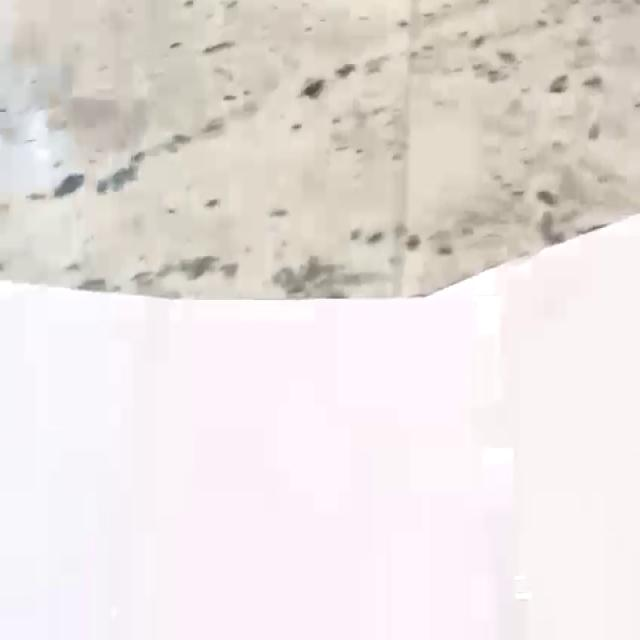road: (0, 215, 640, 640)
